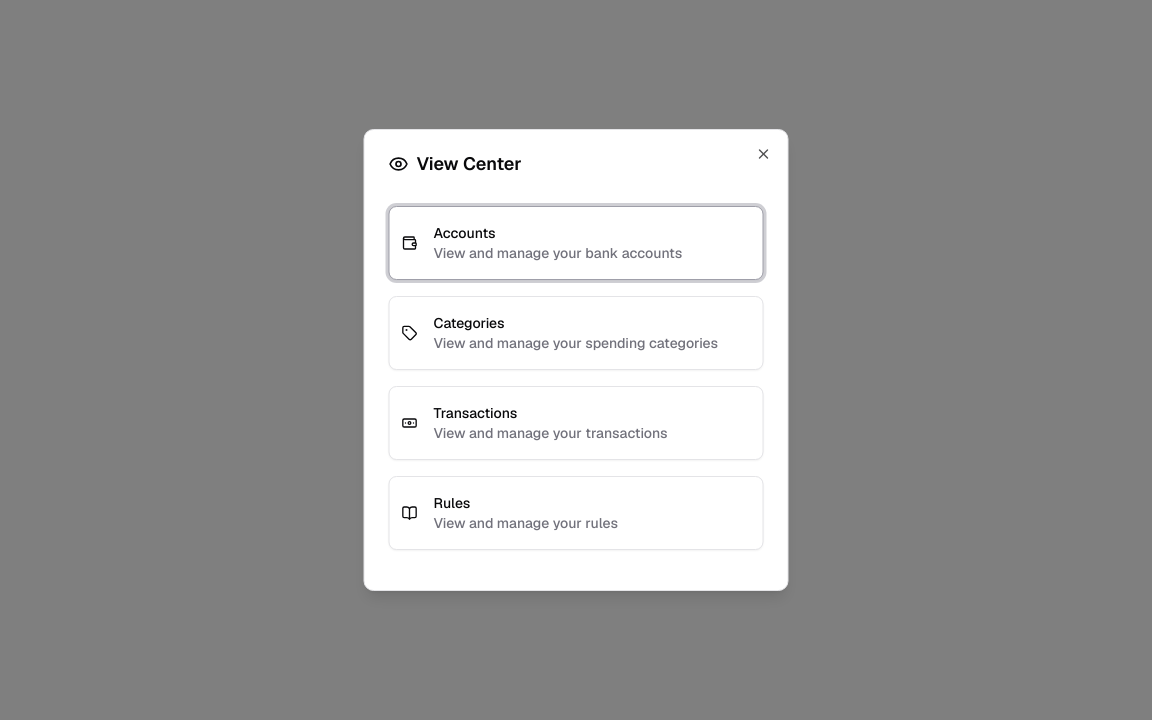
Test: InfoCenterModal › opens the accounts list
The image size is (1152, 720).
Click the button "Accounts View and manage your bank accounts" at {"x": 576, "y": 243}, box [388, 206, 764, 280]
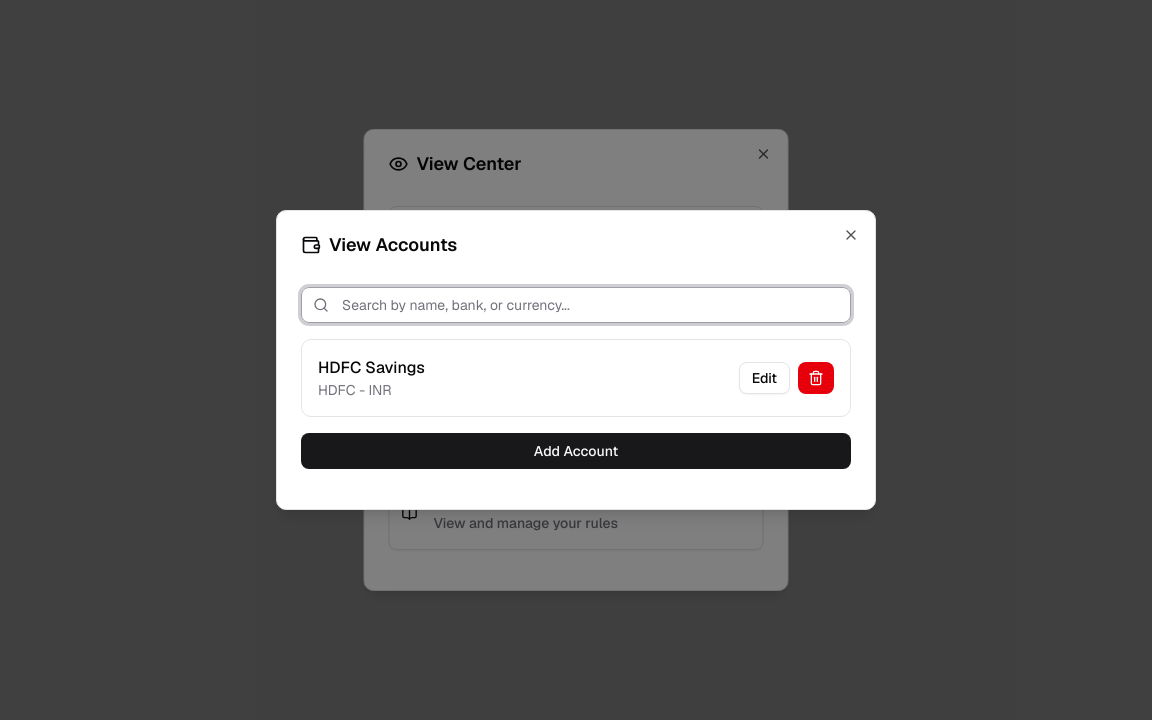
Result: the dialog "View Accounts" is shown at [276, 210, 876, 510]
